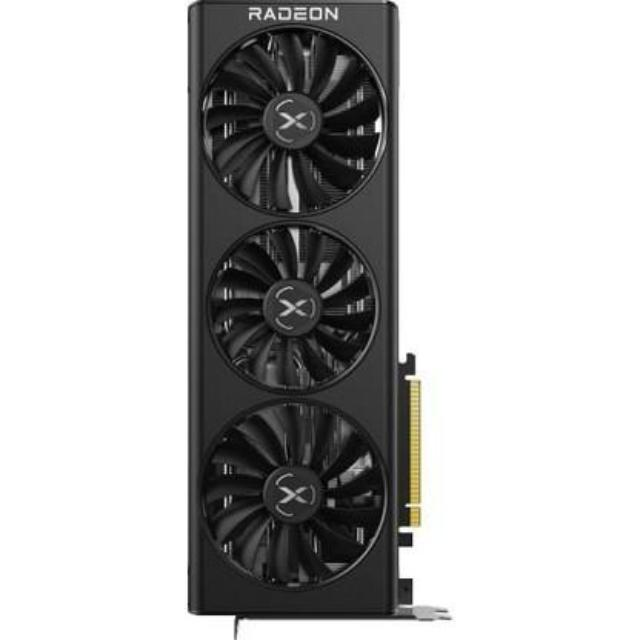GPU: (178, 2, 426, 628)
